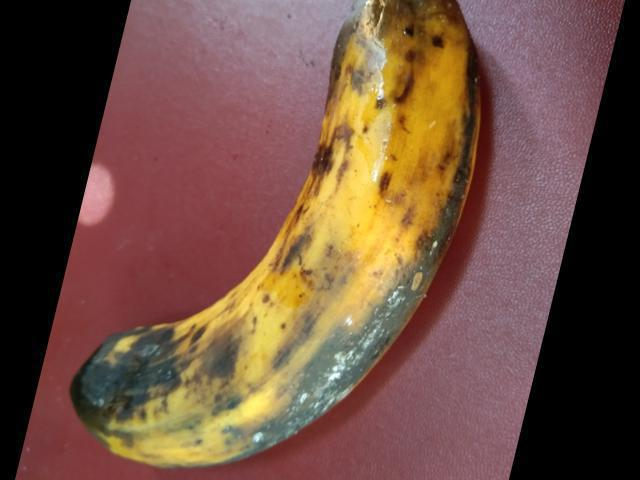rotten: (50, 5, 494, 479)
